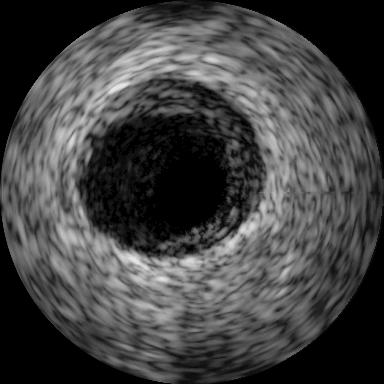Lumen: (155, 146, 227, 227)
